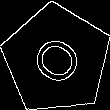O_SE: (24, 27, 89, 91)
